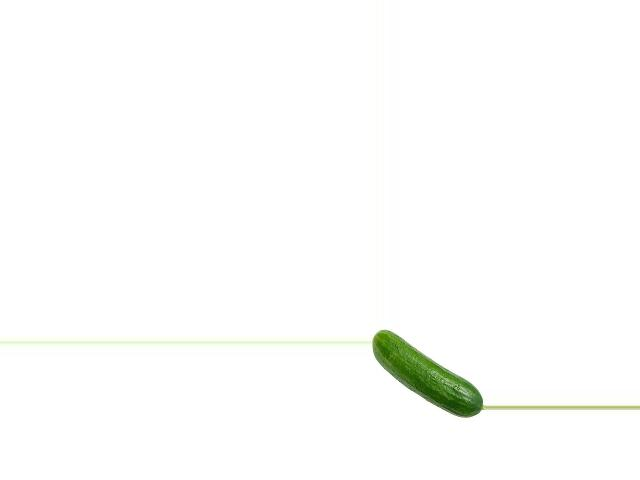cucumber: (371, 330, 484, 418)
